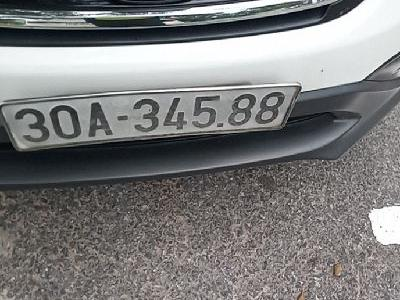lisence: (1, 83, 302, 152)
